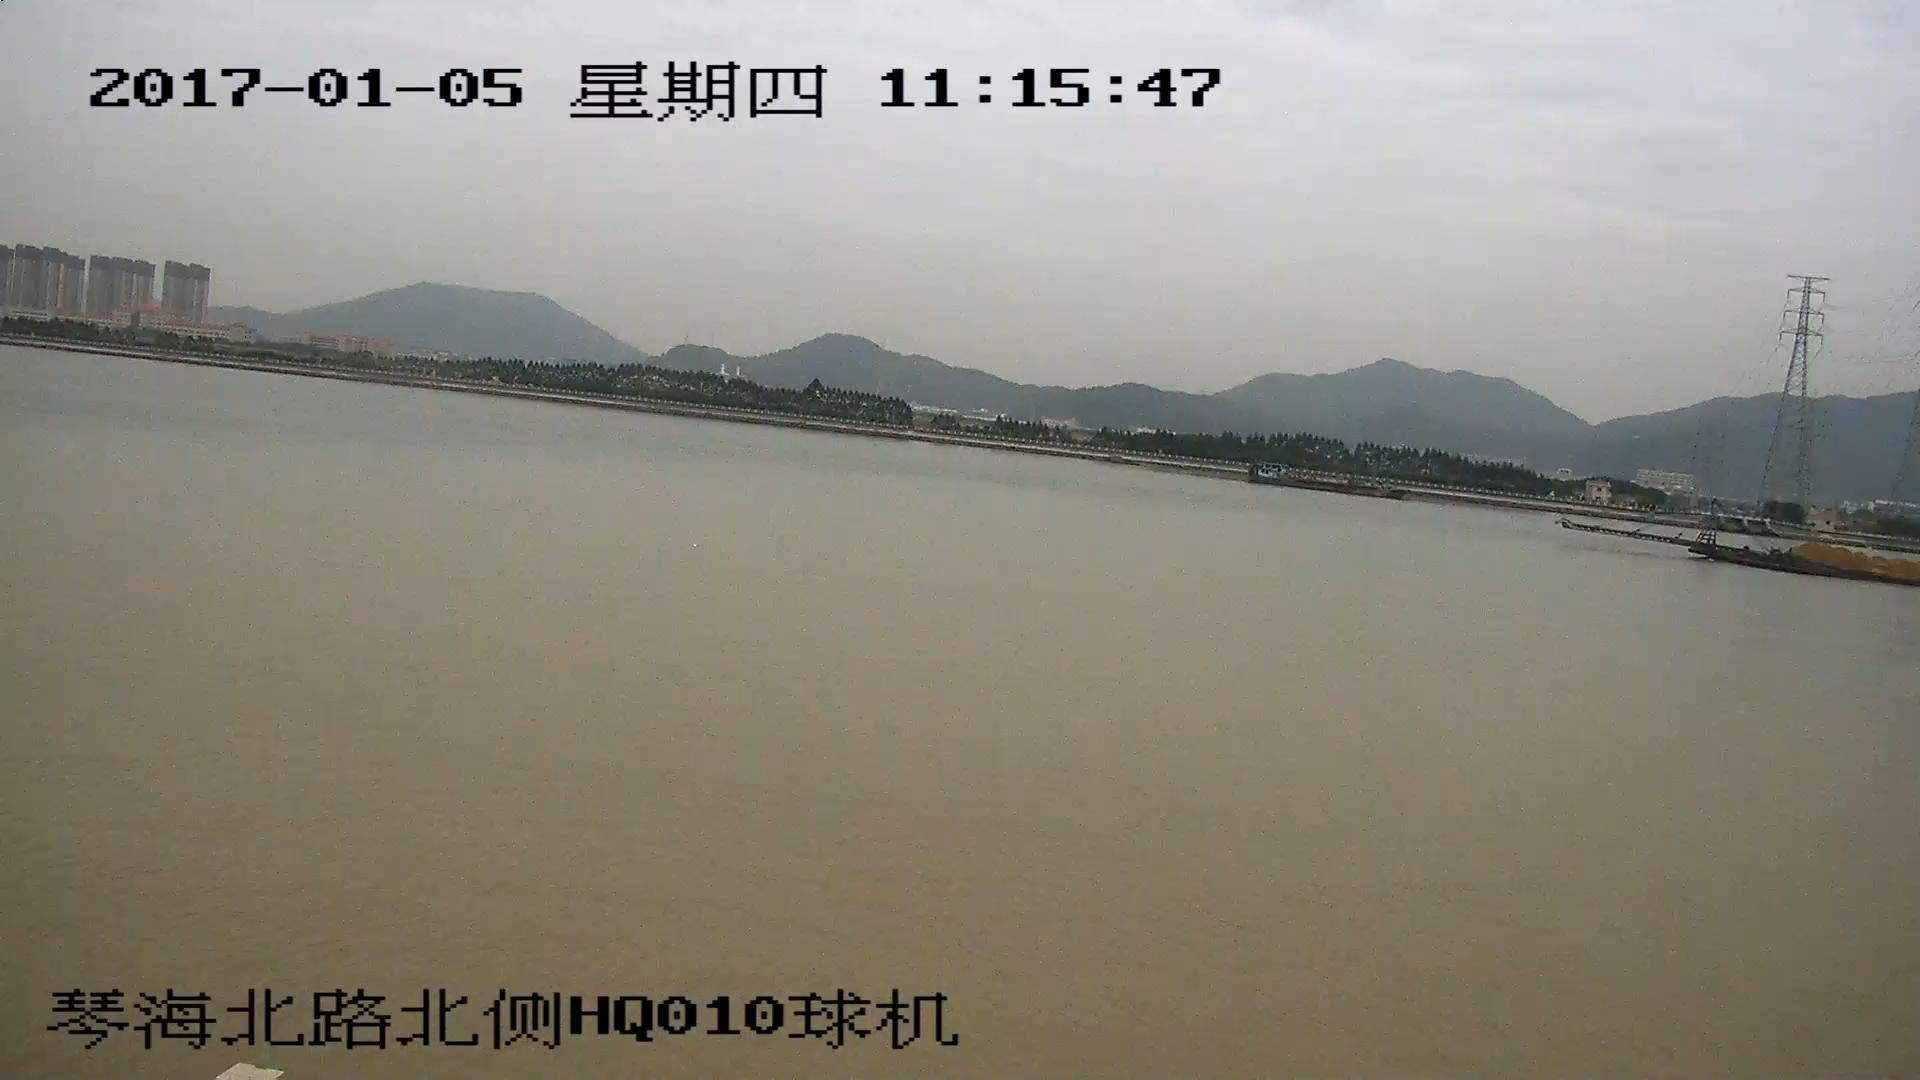ore carrier: (1567, 521, 1920, 581)
